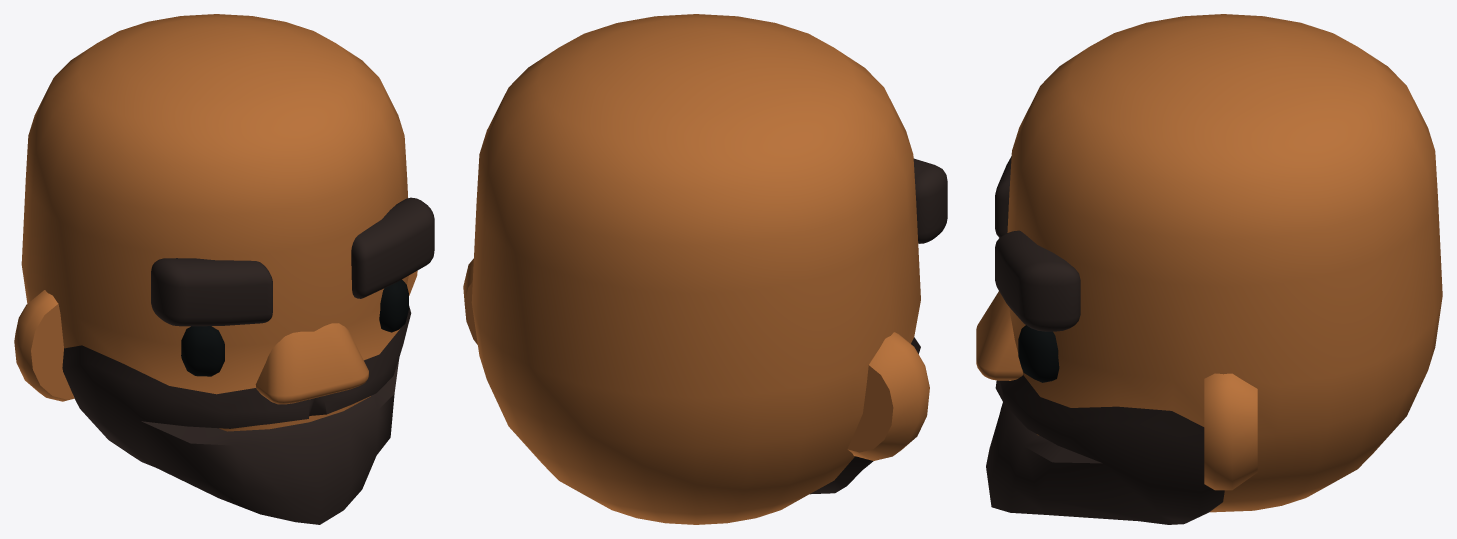
Rendered from barbarianHeadC.obj.
The picture shows the model from 3 angles, left to right: view 1: azimuth 30°, elevation 25°; view 2: azimuth 150°, elevation 25°; view 3: azimuth 270°, elevation 25°; orthographic projection. The views are drawn at different scales.
Visible parts, largest first — view 1: barbarianHeadC_Cube.3527; view 2: barbarianHeadC_Cube.3527; view 3: barbarianHeadC_Cube.3527.
Boxes of the visible parts, x1=… form: barbarianHeadC_Cube.3527: x1=14, y1=14, x2=434, y2=524; barbarianHeadC_Cube.3527: x1=463, y1=14, x2=947, y2=524; barbarianHeadC_Cube.3527: x1=976, y1=14, x2=1442, y2=524.
Size of the model in its own units: 1.18 by 1.14 by 1.06.
